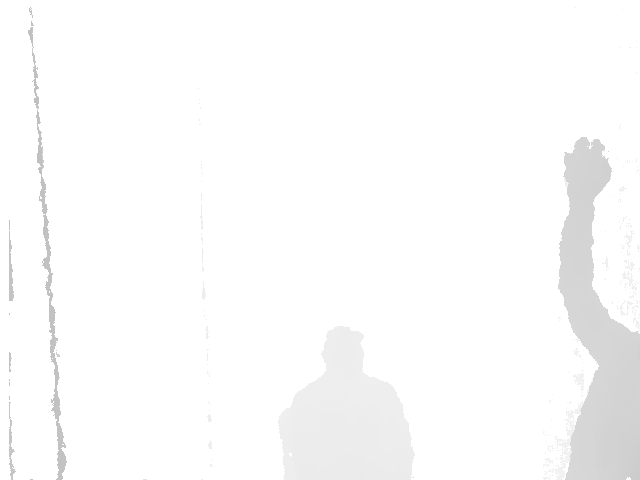hand: (563, 138, 612, 206)
head: (324, 328, 362, 385)
person: (557, 138, 640, 480), (289, 327, 416, 480)
